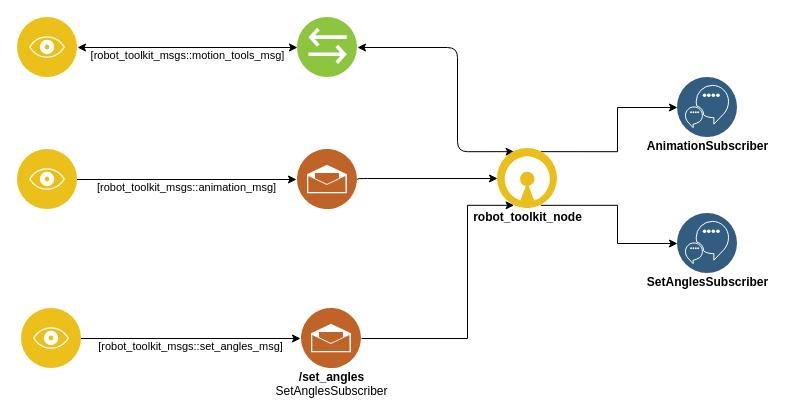
The diagram is 785 pixels wide and 416 high, and some of its shapes have lost their labels. Each missing label, with the centre of its shape:
/animations AnimationSubscriber: the point at 327,179
/robot_tookit/motion_tools_srv RobotToolkit::MotionToolsSrv: the point at 327,47
